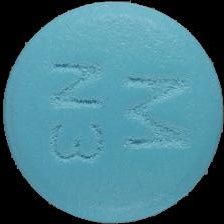0378-7003: (0, 0, 224, 224)
